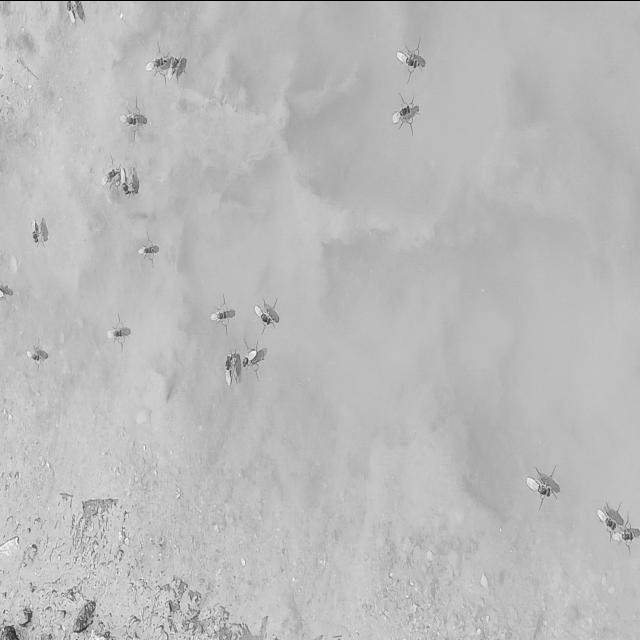Mosquito: (375, 76, 430, 148), (523, 462, 577, 522), (392, 16, 432, 94), (250, 276, 286, 336), (100, 295, 134, 355), (145, 32, 185, 80), (610, 506, 640, 569), (600, 484, 628, 548), (20, 327, 50, 382), (116, 156, 140, 206), (208, 288, 234, 334), (216, 340, 242, 386), (99, 148, 124, 194), (233, 337, 263, 372), (133, 234, 159, 273), (27, 206, 45, 260), (120, 103, 142, 135)
